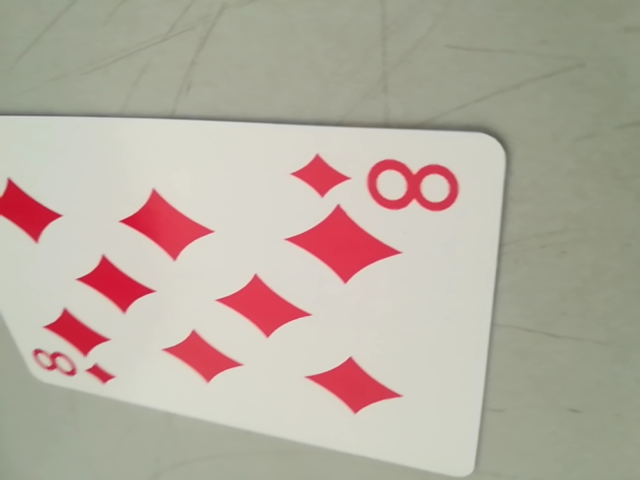fk 8: (297, 149, 465, 217), (29, 344, 113, 388)
